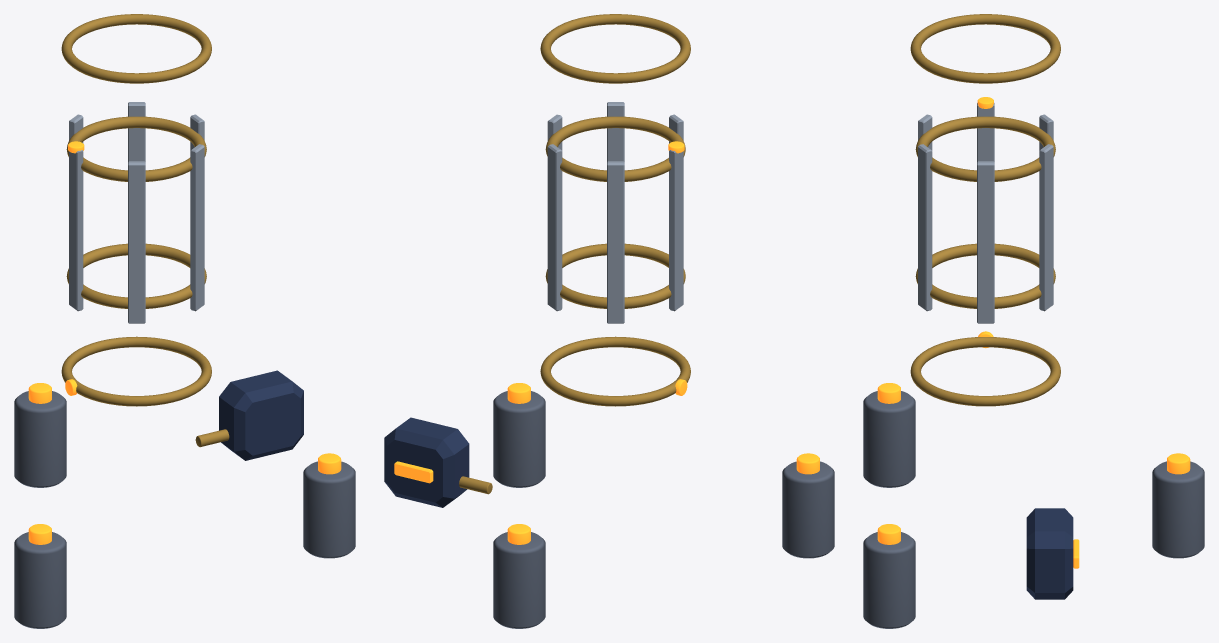
The model's file is tower_overclock_potency_s6.glb.
3 views of the same model, side by side, from view 1: azimuth 30°, elevation 25°; view 2: azimuth 150°, elevation 25°; view 3: azimuth 270°, elevation 25° (orthographic).
Parts seen in each view (by area): view 1: overclock_trap_coupler, overclock_cap1, overclock_cap0, overclock_cap2, overclock_conductor_b2.36, overclock_conductor_b1.14, overclock_vane5, overclock_conductor1.98, overclock_conductor1.5, overclock_vane4, overclock_vane0, overclock_vane2; view 2: overclock_trap_coupler, overclock_cap2, overclock_cap0, overclock_cap1, overclock_conductor_b2.36, overclock_conductor_b1.14, overclock_vane1, overclock_conductor1.98, overclock_vane2, overclock_conductor1.5, overclock_vane0, overclock_vane4; view 3: overclock_cap0, overclock_cap1, overclock_cap2, overclock_trap_coupler, overclock_conductor_b1.14, overclock_conductor_b2.36, overclock_conductor1.98, overclock_vane3, overclock_conductor1.5, overclock_vane2, overclock_vane4, overclock_vane0.
Part boxes in pixels (x1,y1,x2,y2): overclock_trap_coupler: (219,370,303,460); overclock_cap1: (303,461,355,558); overclock_cap0: (14,391,66,487); overclock_cap2: (14,532,66,628); overclock_conductor_b2.36: (61,14,211,83); overclock_conductor_b1.14: (61,336,211,406); overclock_vane5: (128,161,145,323); overclock_conductor1.98: (66,116,206,181); overclock_conductor1.5: (66,243,206,308); overclock_vane4: (190,144,204,311); overclock_vane0: (69,150,83,311); overclock_vane2: (128,102,145,161); overclock_trap_coupler: (384,417,469,507); overclock_cap2: (782,461,834,558); overclock_cap0: (493,532,545,628); overclock_cap1: (493,391,545,487); overclock_conductor_b2.36: (540,14,690,83); overclock_conductor_b1.14: (540,336,690,406); overclock_vane1: (607,161,624,323); overclock_conductor1.98: (545,116,685,181); overclock_vane2: (547,144,562,311); overclock_conductor1.5: (545,243,685,308); overclock_vane0: (669,150,683,311); overclock_vane4: (607,102,624,161); overclock_cap0: (1152,461,1204,558); overclock_cap1: (863,532,915,628); overclock_cap2: (863,391,915,487); overclock_trap_coupler: (1026,508,1073,599); overclock_conductor_b1.14: (910,337,1060,406); overclock_conductor_b2.36: (910,14,1060,83); overclock_conductor1.98: (915,116,1055,181); overclock_vane3: (977,161,994,323); overclock_conductor1.5: (915,243,1055,308); overclock_vane2: (1039,144,1053,311); overclock_vane4: (918,144,932,311); overclock_vane0: (977,103,994,161).
Size of the model in its own units: 1.42 by 1.91 by 1.17.
